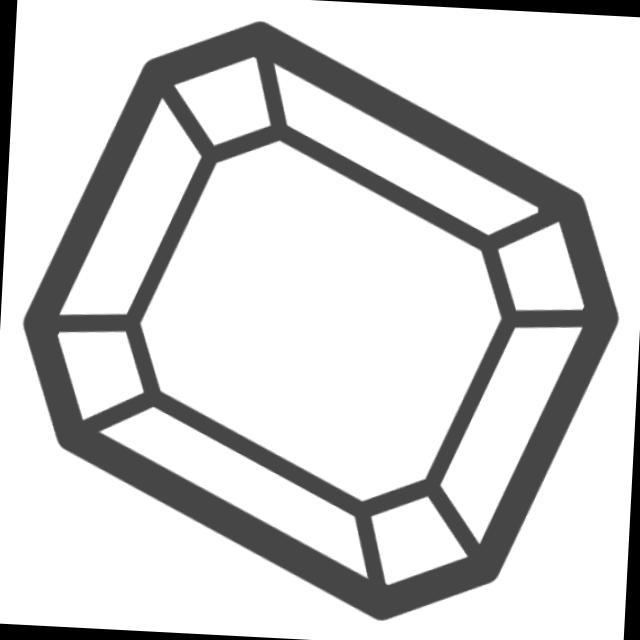emerald: (2, 4, 639, 640)
